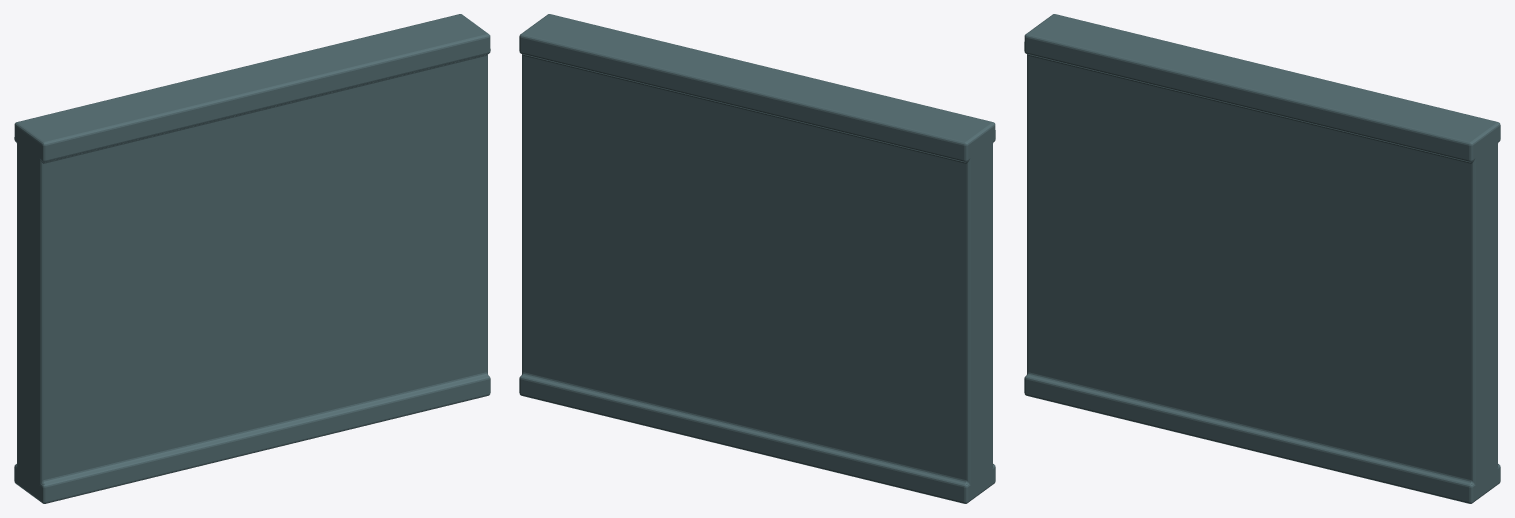
File: wall.fbx
The picture shows the model from 3 angles, left to right: view 1: azimuth 30°, elevation 25°; view 2: azimuth 150°, elevation 25°; view 3: azimuth 330°, elevation 25°; orthographic projection.
Visible parts, largest first — view 1: wall; view 2: wall; view 3: wall.
Boxes of the visible parts, <box> form: wall: <box>14,14,490,503</box>; wall: <box>519,14,995,503</box>; wall: <box>1024,14,1500,503</box>.
Size of the model in its own units: 400 by 308 by 46.25.
